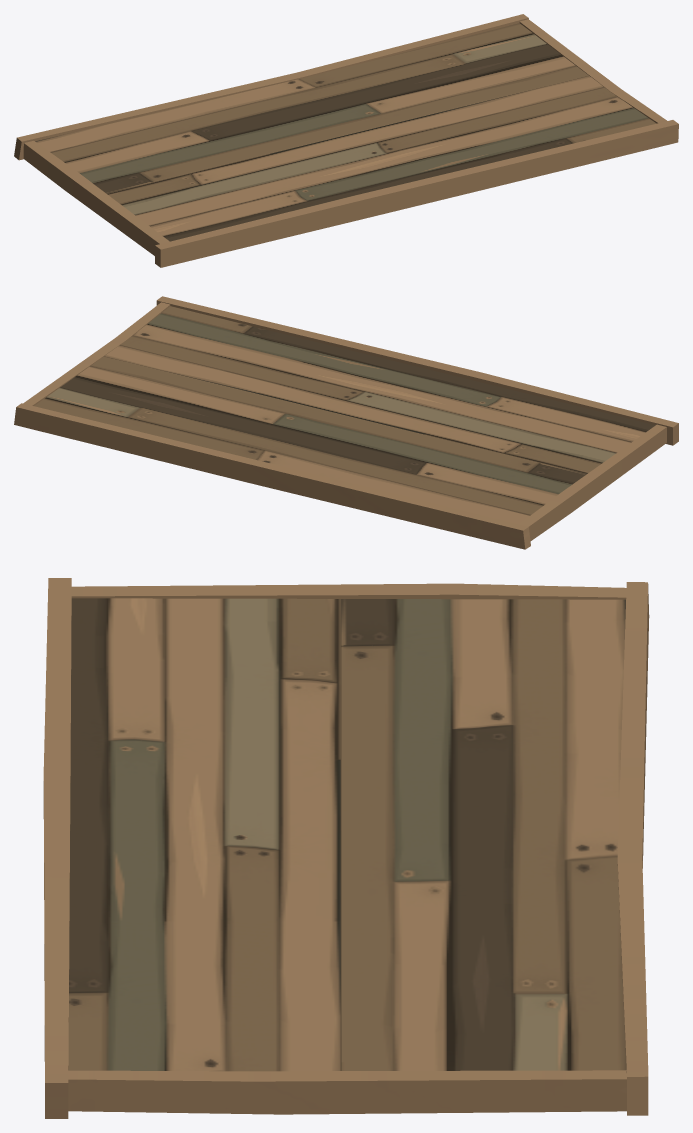
Rendered from SM_Bld_Dock_05.fbx.
3 views of the same model, one above another, from view 1: azimuth 30°, elevation 25°; view 2: azimuth 150°, elevation 25°; view 3: azimuth 270°, elevation 25° (orthographic). The views are drawn at different scales.
Parts seen in each view (by area): view 1: SM_Bld_Dock_05; view 2: SM_Bld_Dock_05; view 3: SM_Bld_Dock_05.
Boxes of the visible parts, box(x1,y1,x2,y2) form: SM_Bld_Dock_05: box(14, 14, 678, 267); SM_Bld_Dock_05: box(14, 296, 678, 549); SM_Bld_Dock_05: box(43, 578, 649, 1118).
Bounding box in the file's own units: 780 × 30.5 × 395.
